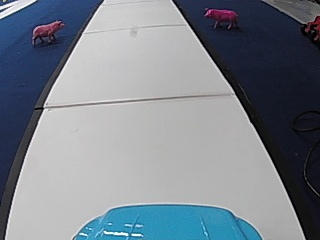pig: (201, 4, 240, 30), (29, 18, 63, 45)
